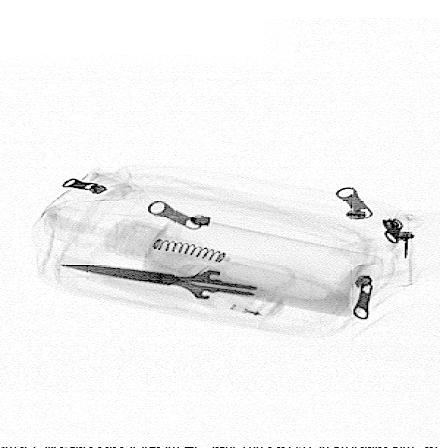Scissors: (57, 257, 300, 320)
